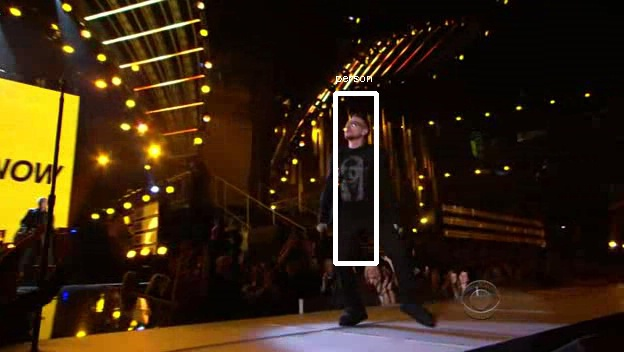person: (323, 117, 392, 233), (320, 117, 389, 233), (326, 117, 395, 233), (323, 114, 392, 230), (323, 120, 392, 236)
target_negative: (119, 164, 473, 219), (314, 99, 429, 231), (476, 280, 567, 332), (391, 322, 624, 341), (313, 322, 475, 331), (593, 3, 595, 318)
